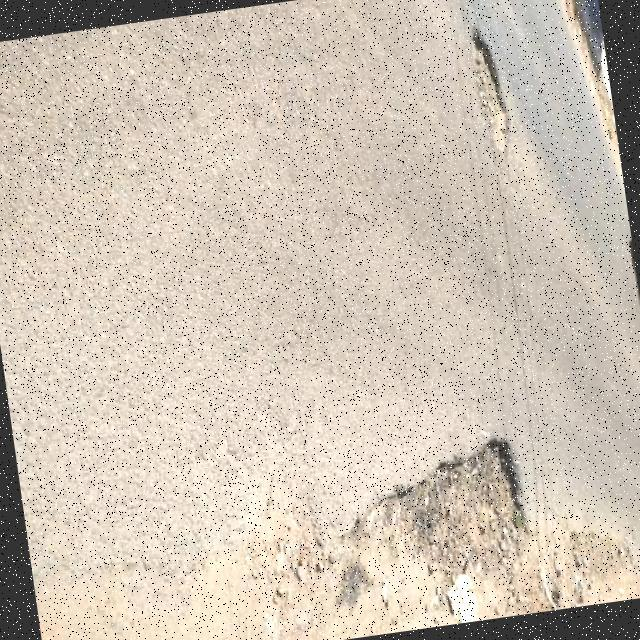Pothole: (361, 439, 518, 623), (467, 28, 511, 172), (570, 534, 640, 607)
